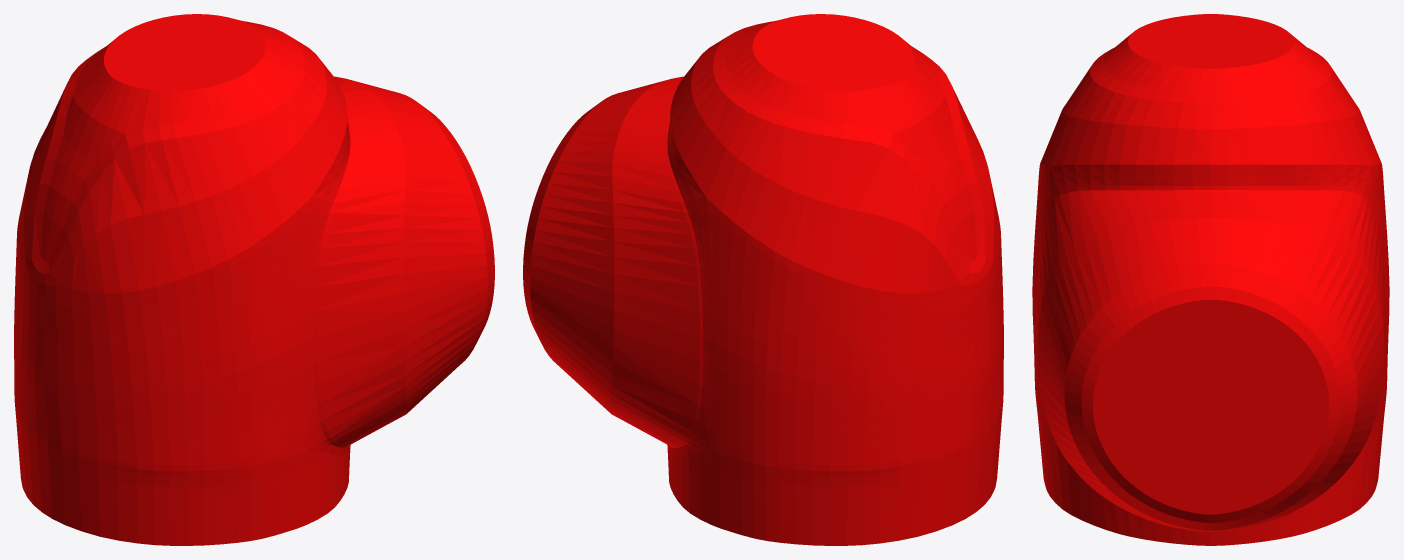
3 views of the same model, side by side, from view 1: azimuth 30°, elevation 25°; view 2: azimuth 150°, elevation 25°; view 3: azimuth 270°, elevation 25° (orthographic).
Parts seen in each view (by area): view 1: MF1509_2_0; view 2: MF1509_2_0; view 3: MF1509_2_0.
Part boxes in pixels (left/top/right/bottom): MF1509_2_0: left=14, top=14, right=494, bottom=545; MF1509_2_0: left=523, top=14, right=1003, bottom=545; MF1509_2_0: left=1032, top=14, right=1389, bottom=545.
Size of the model in its own units: 214 by 161 by 220.
